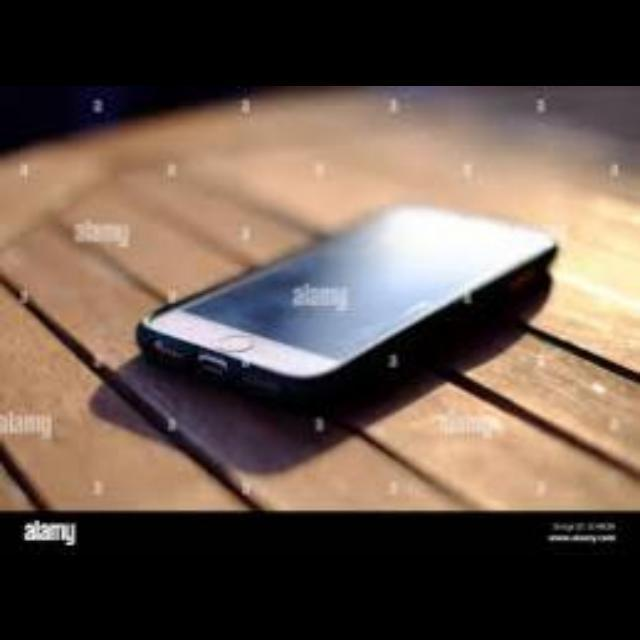phone: (130, 172, 572, 474)
